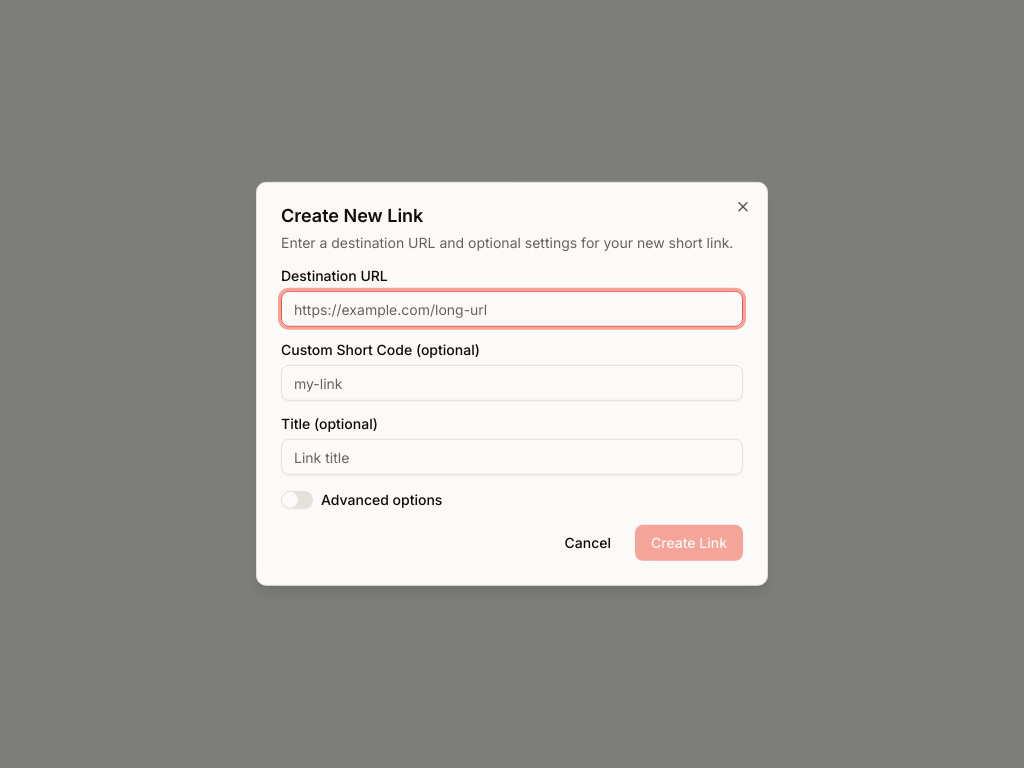
Test: CreateLinkModal › enables Create Link button when URL is provided
In the field with placeholder "https://example.com/long-url": (512, 309) 281,291 -> 743,327, type "https://example.com"
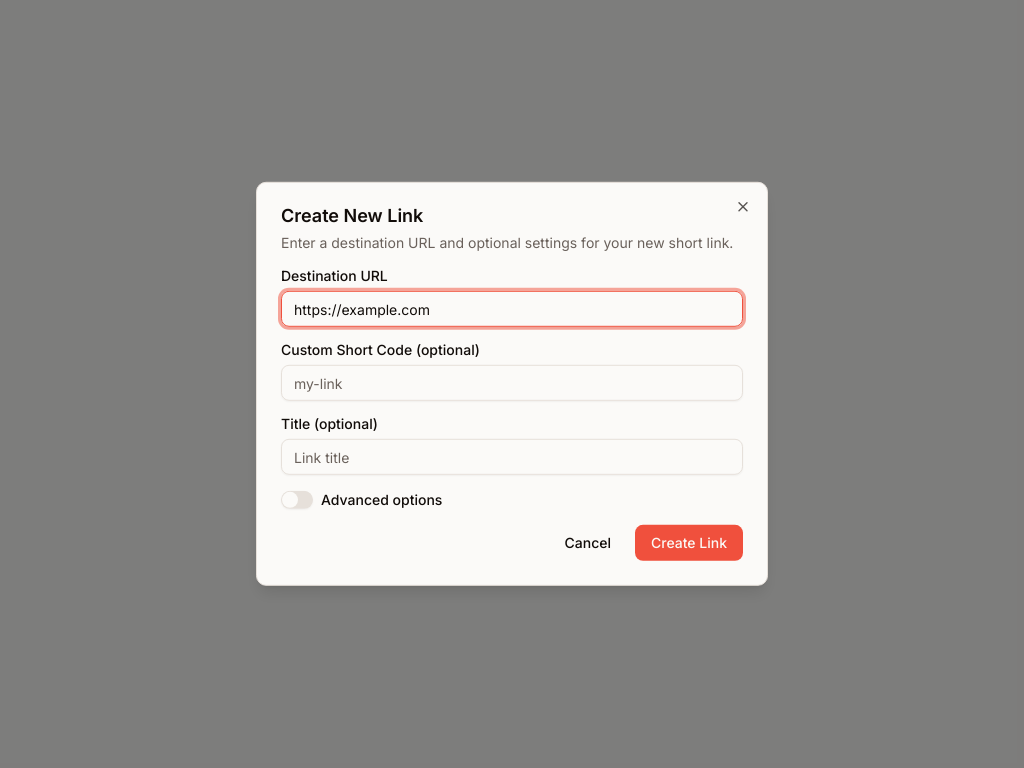
Now the button "Create Link" is enabled, box 635,525 -> 743,561
